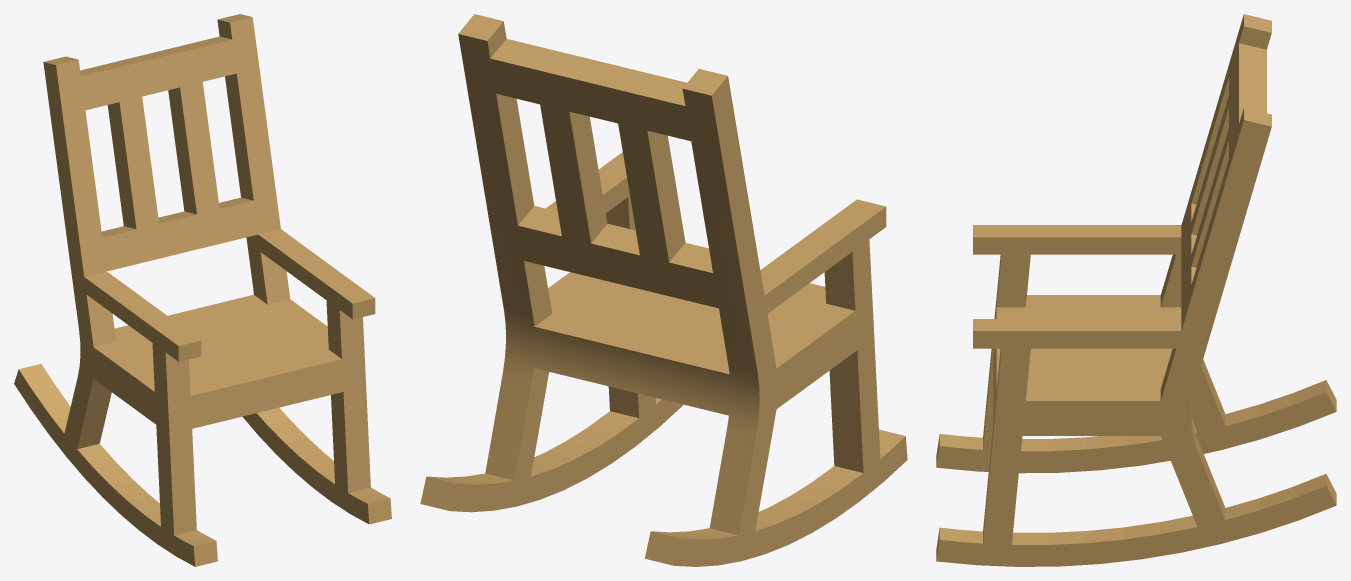
Rendered from chair-wood.glb.
3 renders of one model, left to right at view 1: azimuth 30°, elevation 25°; view 2: azimuth 150°, elevation 25°; view 3: azimuth 270°, elevation 25°, orthographic. The views are drawn at different scales.
Visible parts, largest first — view 1: Rocking_Chair.1; view 2: Rocking_Chair.1; view 3: Rocking_Chair.1.
Boxes of the visible parts, bbox=[...] form: Rocking_Chair.1: bbox=[14, 14, 391, 566]; Rocking_Chair.1: bbox=[420, 14, 907, 566]; Rocking_Chair.1: bbox=[936, 14, 1336, 566].
Size of the model in its own units: 0.195 by 0.3835 by 0.3111.
Materials: 1 (1 with a texture image).
